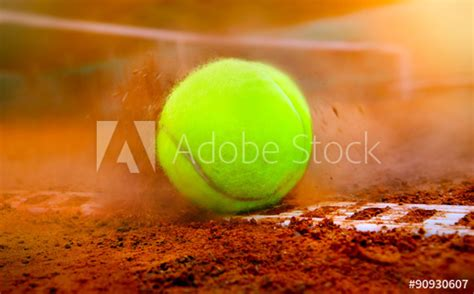tennis_ball: (153, 55, 312, 215)
